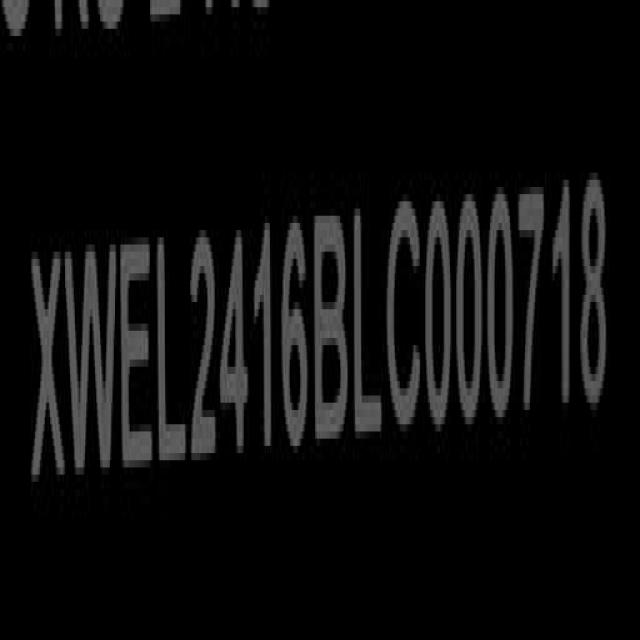0: (426, 190, 456, 433), (454, 189, 482, 428), (486, 188, 514, 425)
1: (255, 215, 278, 463), (553, 173, 574, 416)
2: (190, 231, 220, 478)
4: (218, 218, 250, 470)
6: (280, 220, 310, 467)
7: (519, 176, 546, 421)
8: (582, 172, 609, 414)
B: (312, 207, 350, 454)
C: (389, 194, 425, 442)
E: (121, 232, 157, 486)
L: (353, 196, 385, 448), (154, 232, 188, 468)
W: (67, 234, 119, 491)
X: (31, 242, 68, 499)
